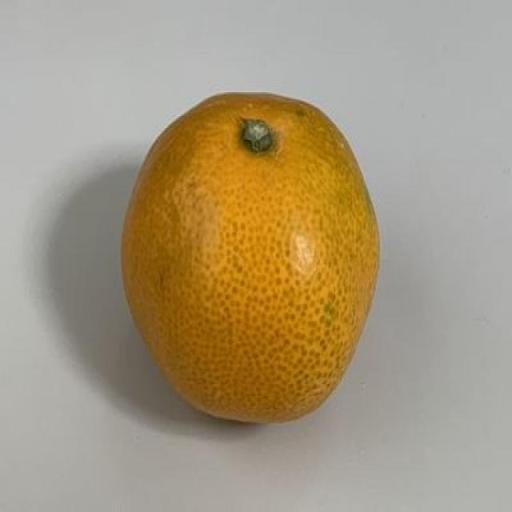fruit: (121, 93, 377, 421)
